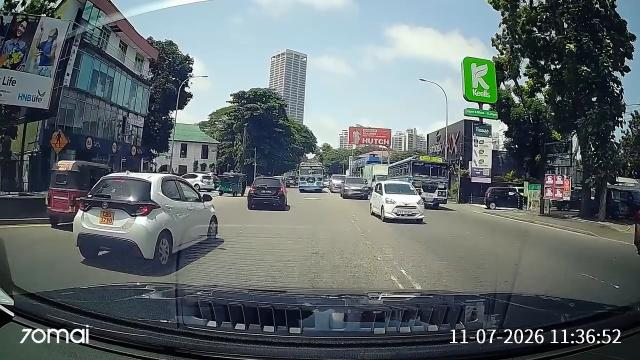number plate: (94, 204, 120, 231)
